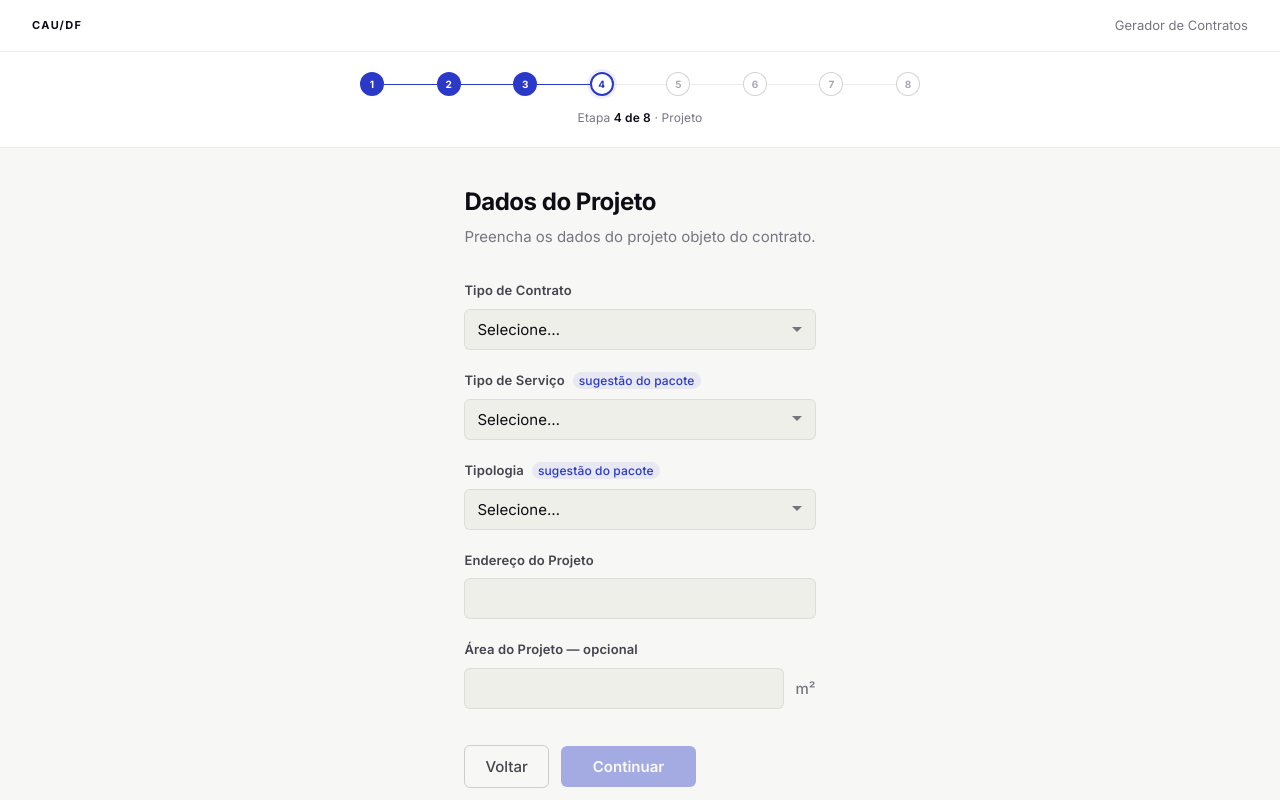
ProjectFormPage › area_projeto with invalid text keeps continue button disabled
This screenshot has width=1280, height=800.
Select "Empreitada" in the dropdown labelled "Tipo de Contrato" at (640,330), box top-left (464, 309), bottom-right (816, 350)
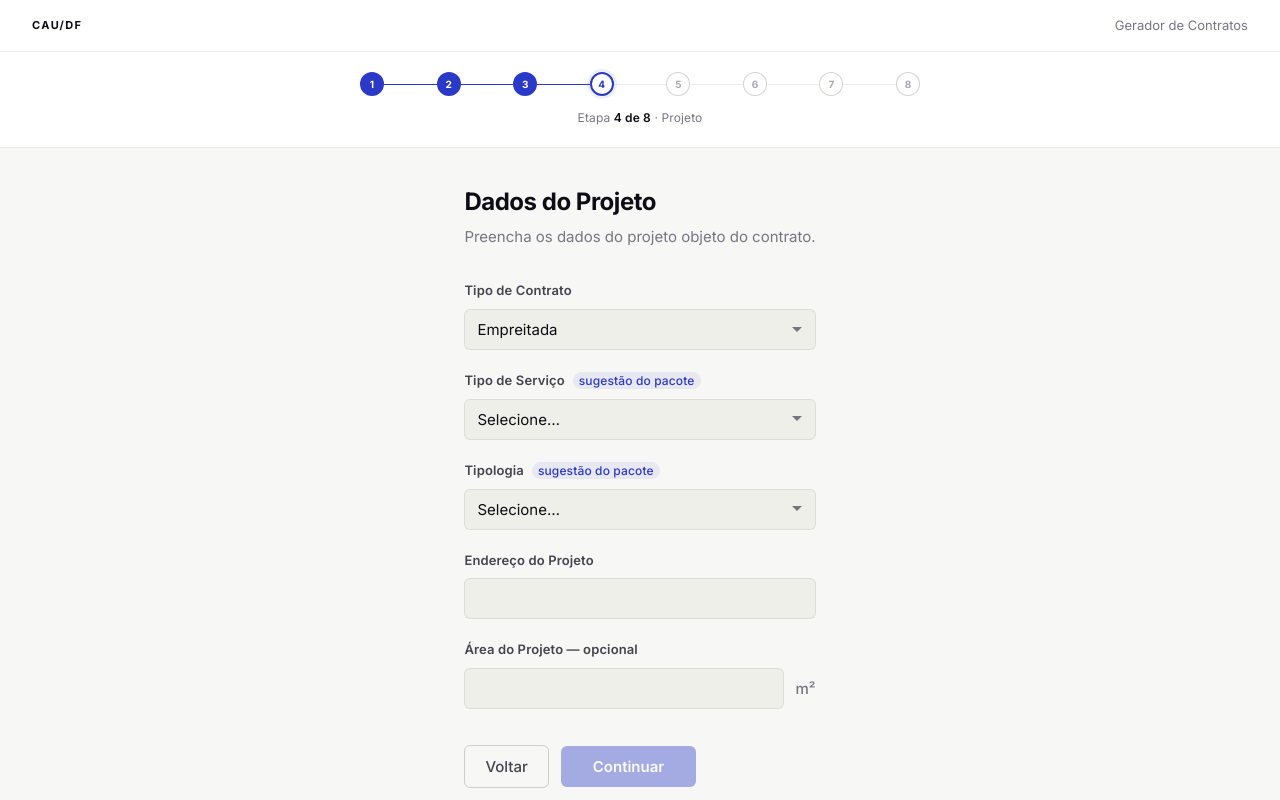
Select "projeto" in the dropdown labelled "Tipo de Serviço" at (640,419), box top-left (464, 399), bottom-right (816, 440)
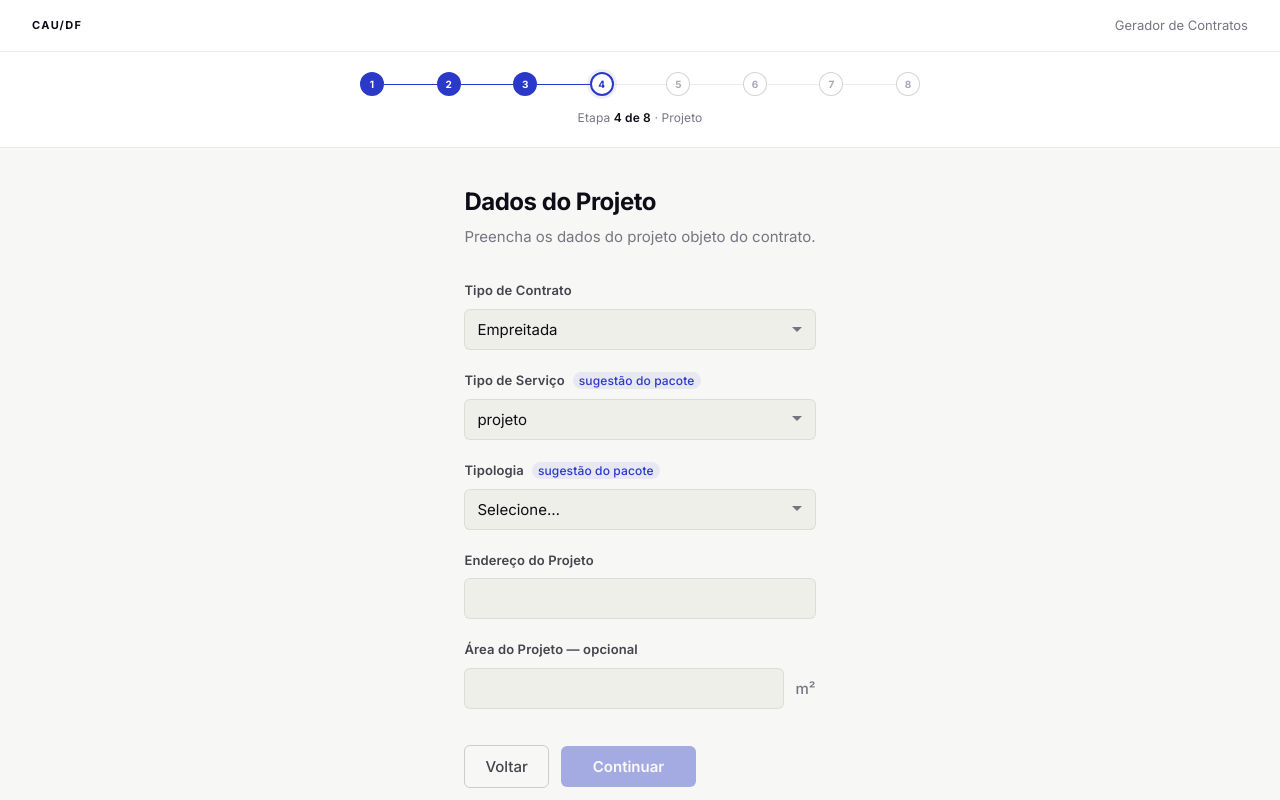
Select "residencial" in the dropdown labelled "Tipologia" at (640,509), box top-left (464, 489), bottom-right (816, 530)
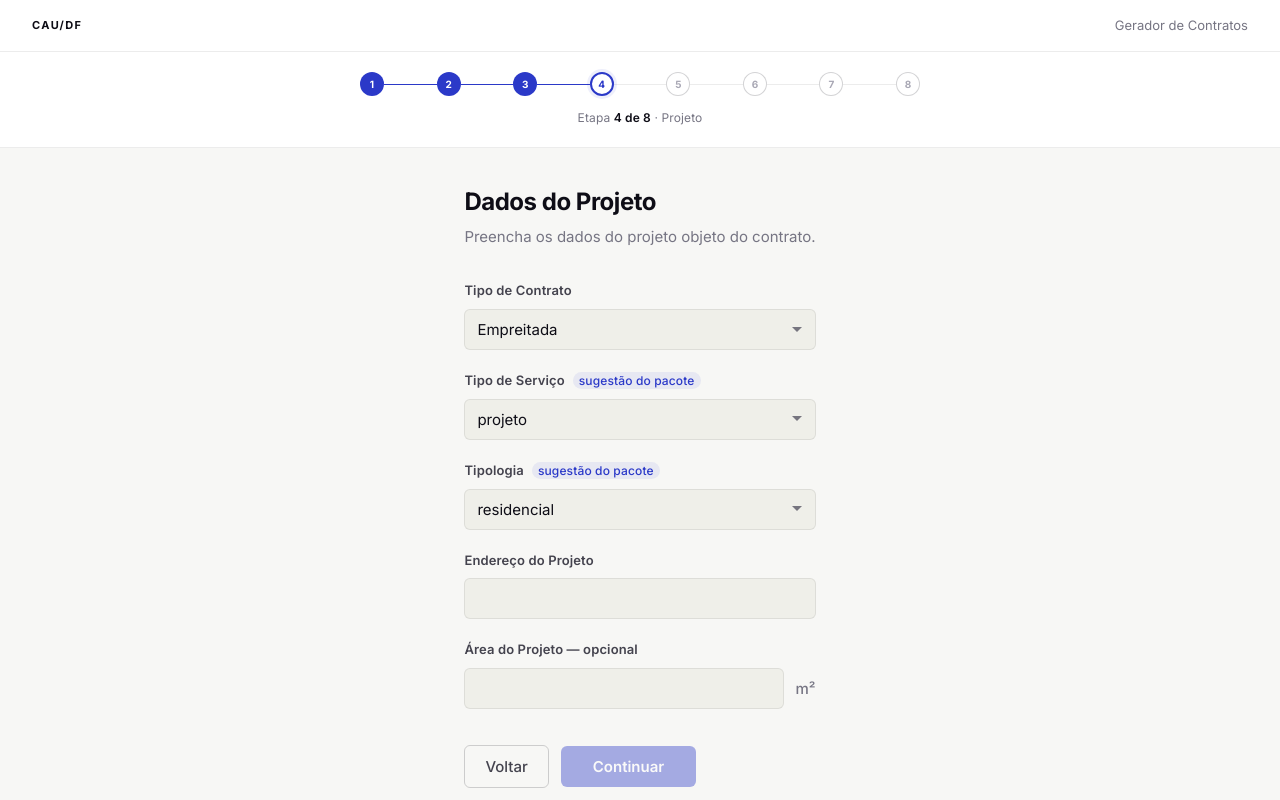
Type "Rua A, 123" into the field labelled "Endereço do Projeto" at (640,599), box top-left (464, 578), bottom-right (816, 619)
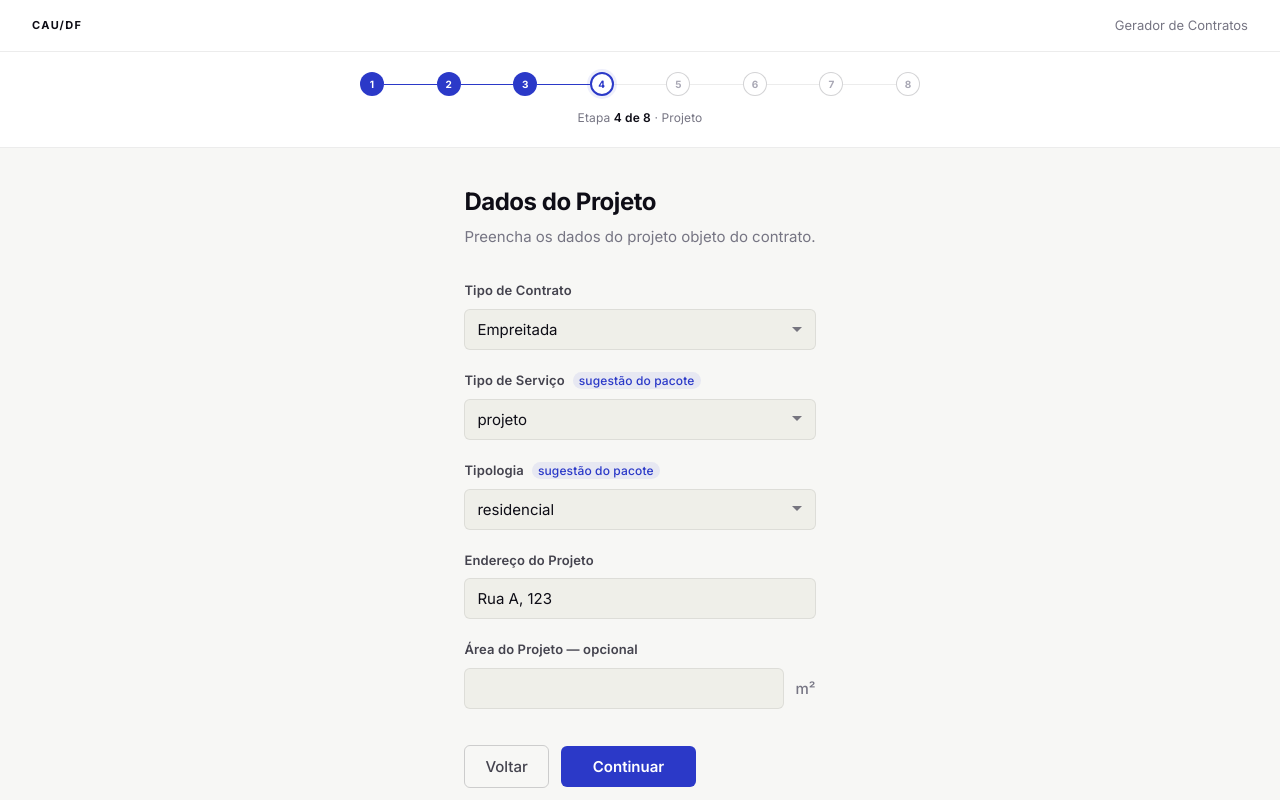
Type "abc" into the field labelled "Área do Projeto — opcional" at (624,689), box top-left (464, 668), bottom-right (784, 709)
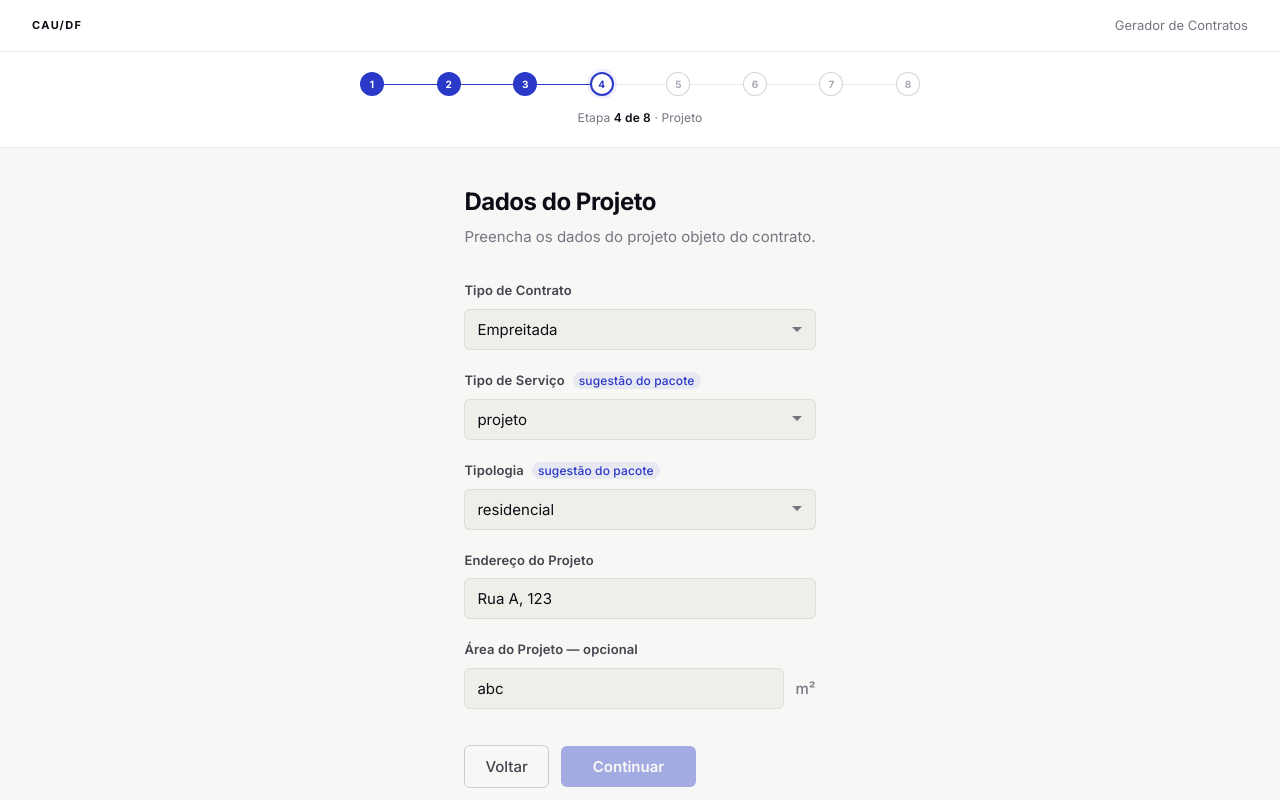
Now the button "Continuar" is disabled, box top-left (561, 746), bottom-right (696, 787)
